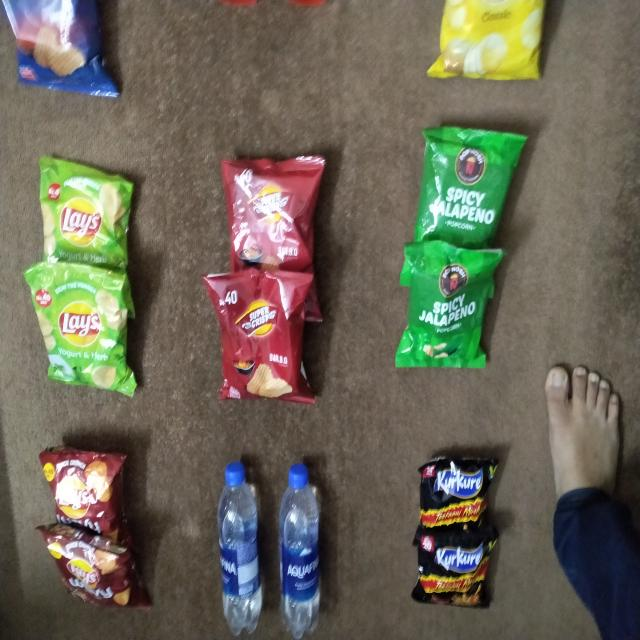Plastic: (210, 273, 316, 401), (27, 266, 138, 388), (426, 127, 524, 245), (222, 160, 325, 269), (404, 245, 486, 374), (5, 7, 114, 98), (40, 154, 125, 260), (432, 4, 549, 81), (278, 465, 322, 640), (220, 456, 262, 634), (41, 450, 132, 531), (46, 544, 146, 614), (416, 538, 493, 608), (421, 465, 492, 527)
